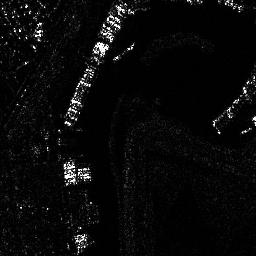ship: (112, 40, 135, 61)
